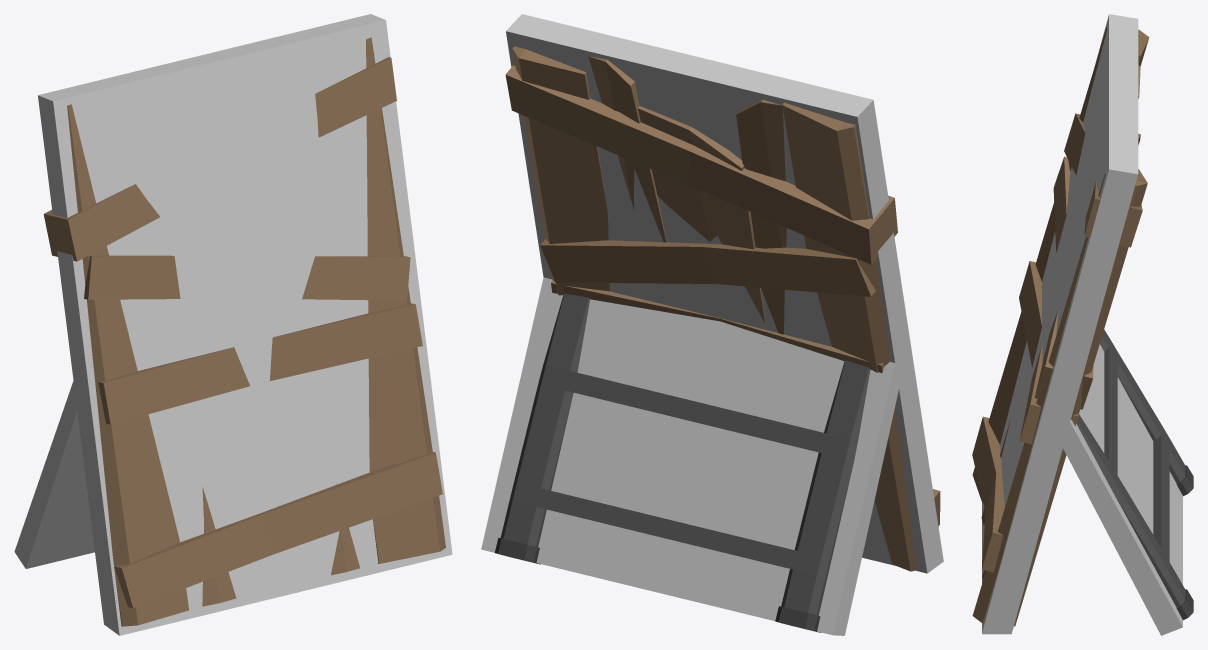
The model's file is WoodenBarricade.fbx.
3 renders of one model, left to right at view 1: azimuth 30°, elevation 25°; view 2: azimuth 150°, elevation 25°; view 3: azimuth 270°, elevation 25°, orthographic. The views are drawn at different scales.
Visible parts, largest first — view 1: WoodenBarricade1C, WoodenBarricade1_LOD0; view 2: WoodenBarricade1C, WoodenBarricade1_LOD0; view 3: WoodenBarricade1C, WoodenBarricade1_LOD0.
Boxes of the visible parts, x1,y1,x2,y2 form: WoodenBarricade1C: [14, 14, 452, 635]; WoodenBarricade1_LOD0: [43, 37, 445, 626]; WoodenBarricade1C: [481, 14, 943, 635]; WoodenBarricade1_LOD0: [494, 46, 940, 632]; WoodenBarricade1C: [982, 14, 1182, 635]; WoodenBarricade1_LOD0: [972, 27, 1193, 626].
Size of what is drawn, in the model's own units: 84.18 by 117 by 50.33.
Materials: 2 (1 with a texture image).
